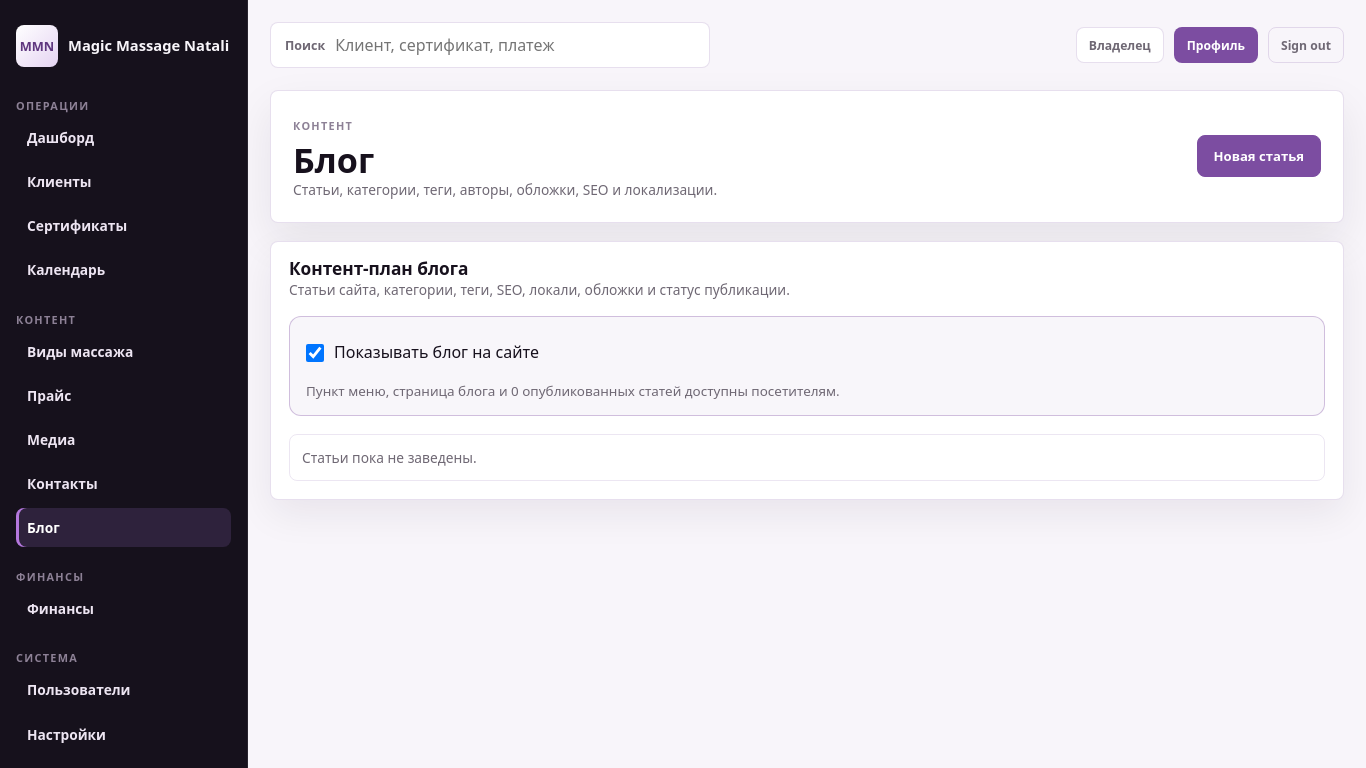
Test case: AdminShell › restores blog visibility when persistence fails
This screenshot has width=1366, height=768.
Click the switch labelled "Показывать блог на сайте" at (315, 353), box x1=306 y1=344 x2=324 y2=362
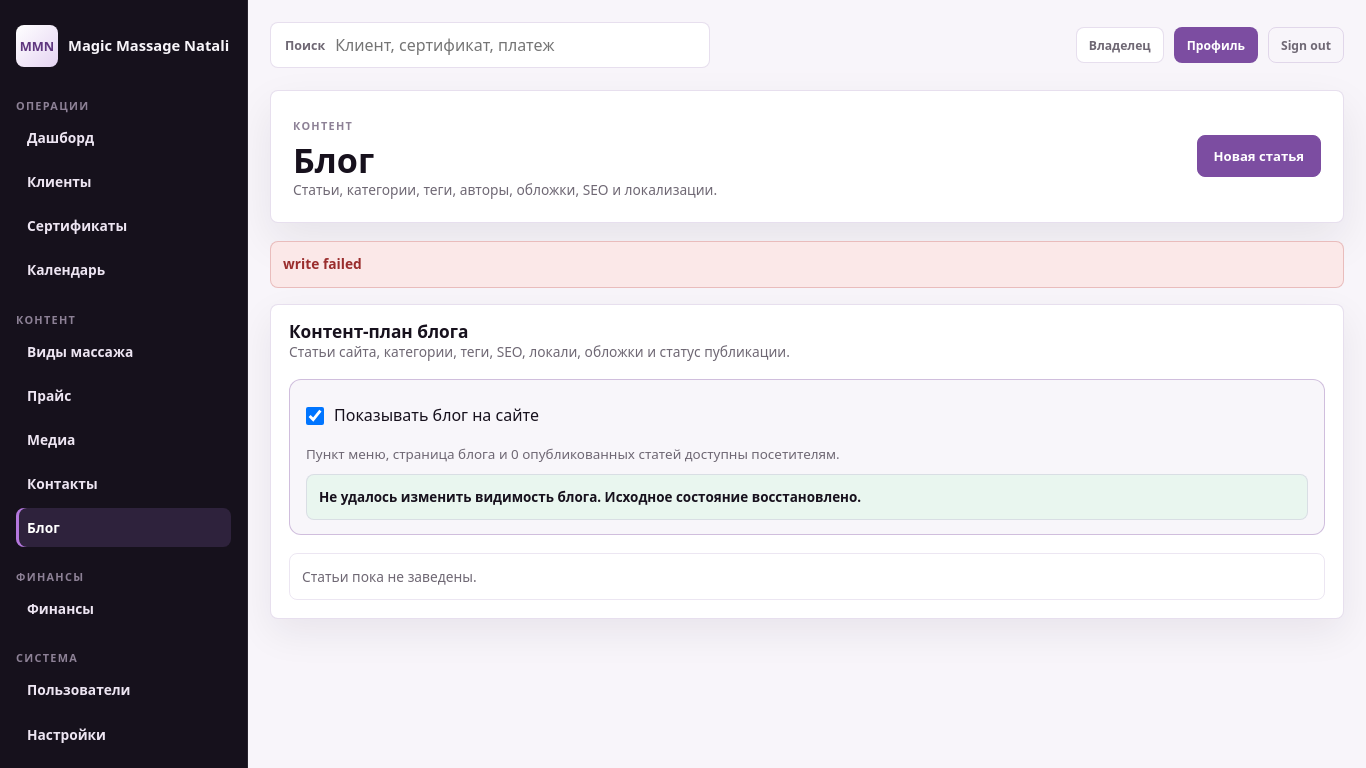
Expected: the switch labelled "Показывать блог на сайте" is checked, x1=306 y1=406 x2=324 y2=424
Now the text "Не удалось изменить видимость блога. Исходное состояние восстановлено." is shown, box x1=306 y1=474 x2=1308 y2=520
